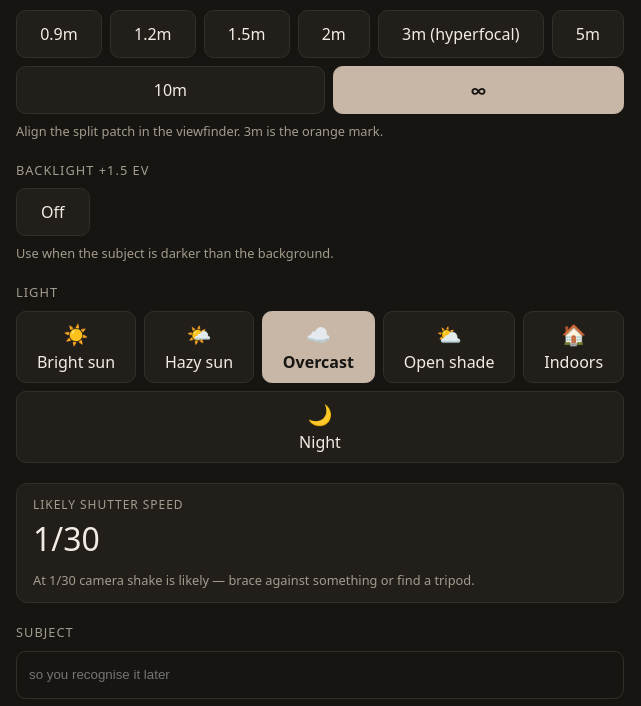
Test: LogShot › shows the estimated shutter speed for the XA
(page scrolled)
What coordinates should you click on to do the following:
click the button "☀️ Bright sun"
I would click on:
 (76, 346)
Its box is [16,310,136,382].
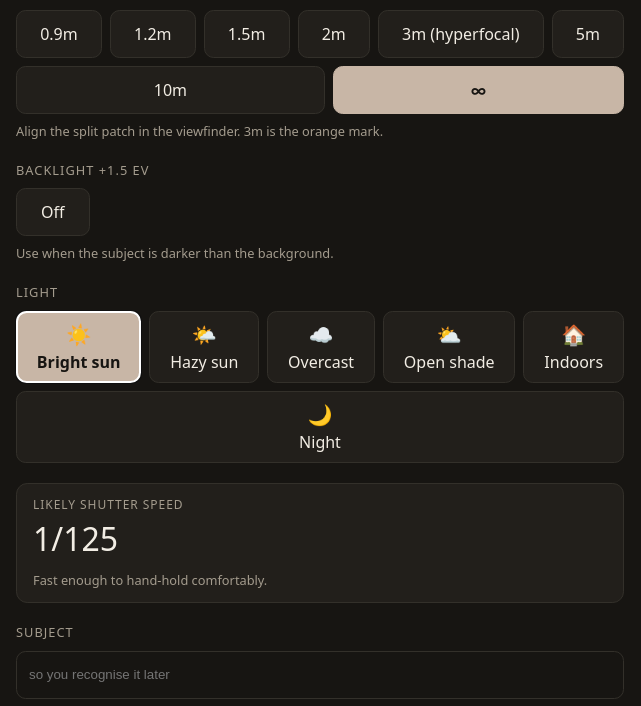
Expected: the text "1/125" is shown, [33,517,118,560]
